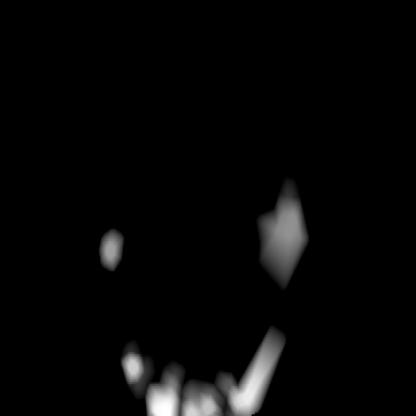fingers: (96, 224, 122, 269)
palm: (119, 346, 272, 414)
